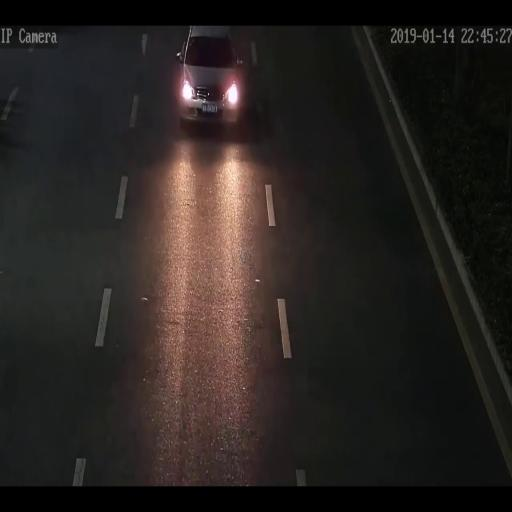License plate: (202, 103, 218, 114)
Vehicle: (176, 26, 243, 128)
